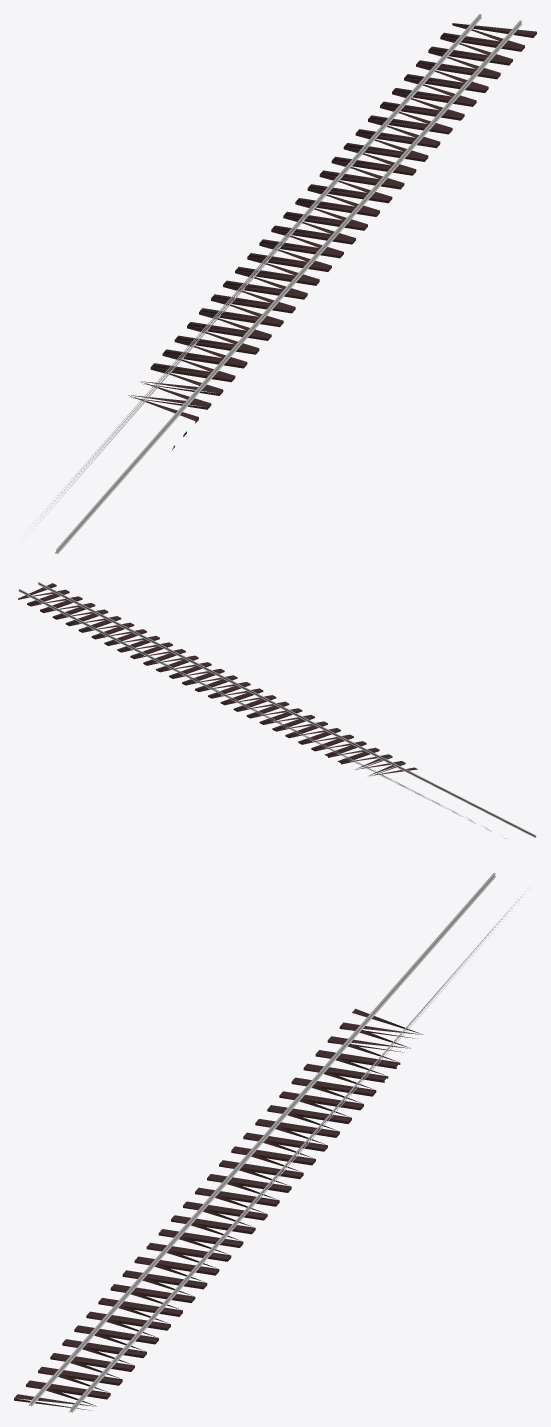
3 views of the same model, one above another, from view 1: azimuth 90°, elevation 25°; view 2: azimuth 150°, elevation 25°; view 3: azimuth 270°, elevation 25° (orthographic). The views are drawn at different scales.
Size of the model in its own units: 31.38 by 0.1478 by 12.92.
